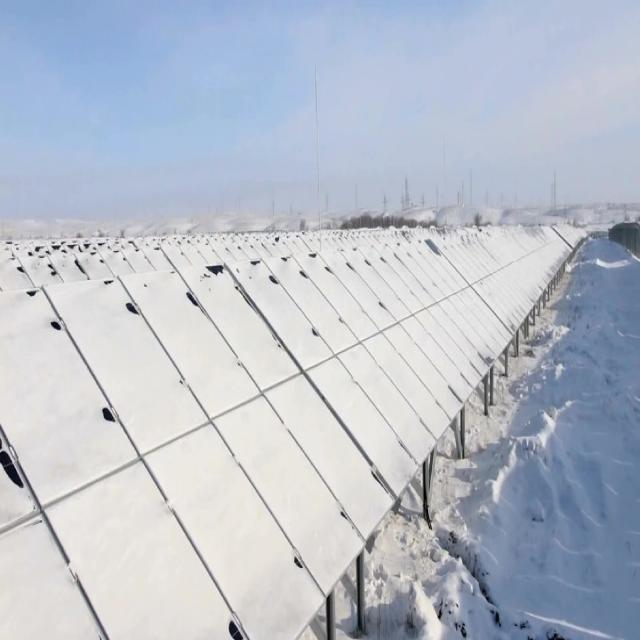snow covered: (14, 226, 578, 640)
